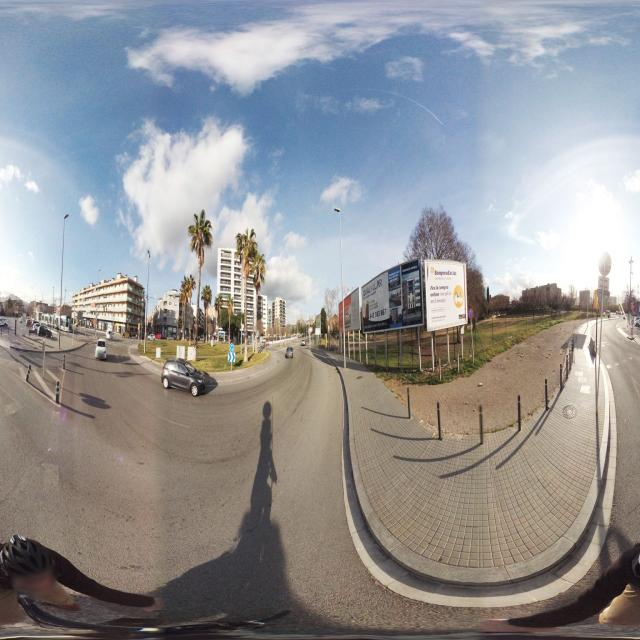forb_stopping: (468, 309, 473, 319)
